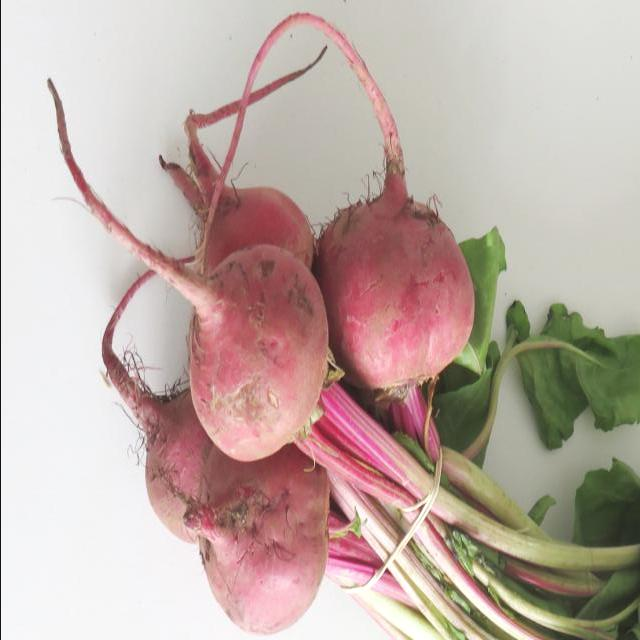beet: (188, 191, 322, 463), (328, 197, 476, 429), (192, 456, 338, 639), (147, 389, 239, 551)
